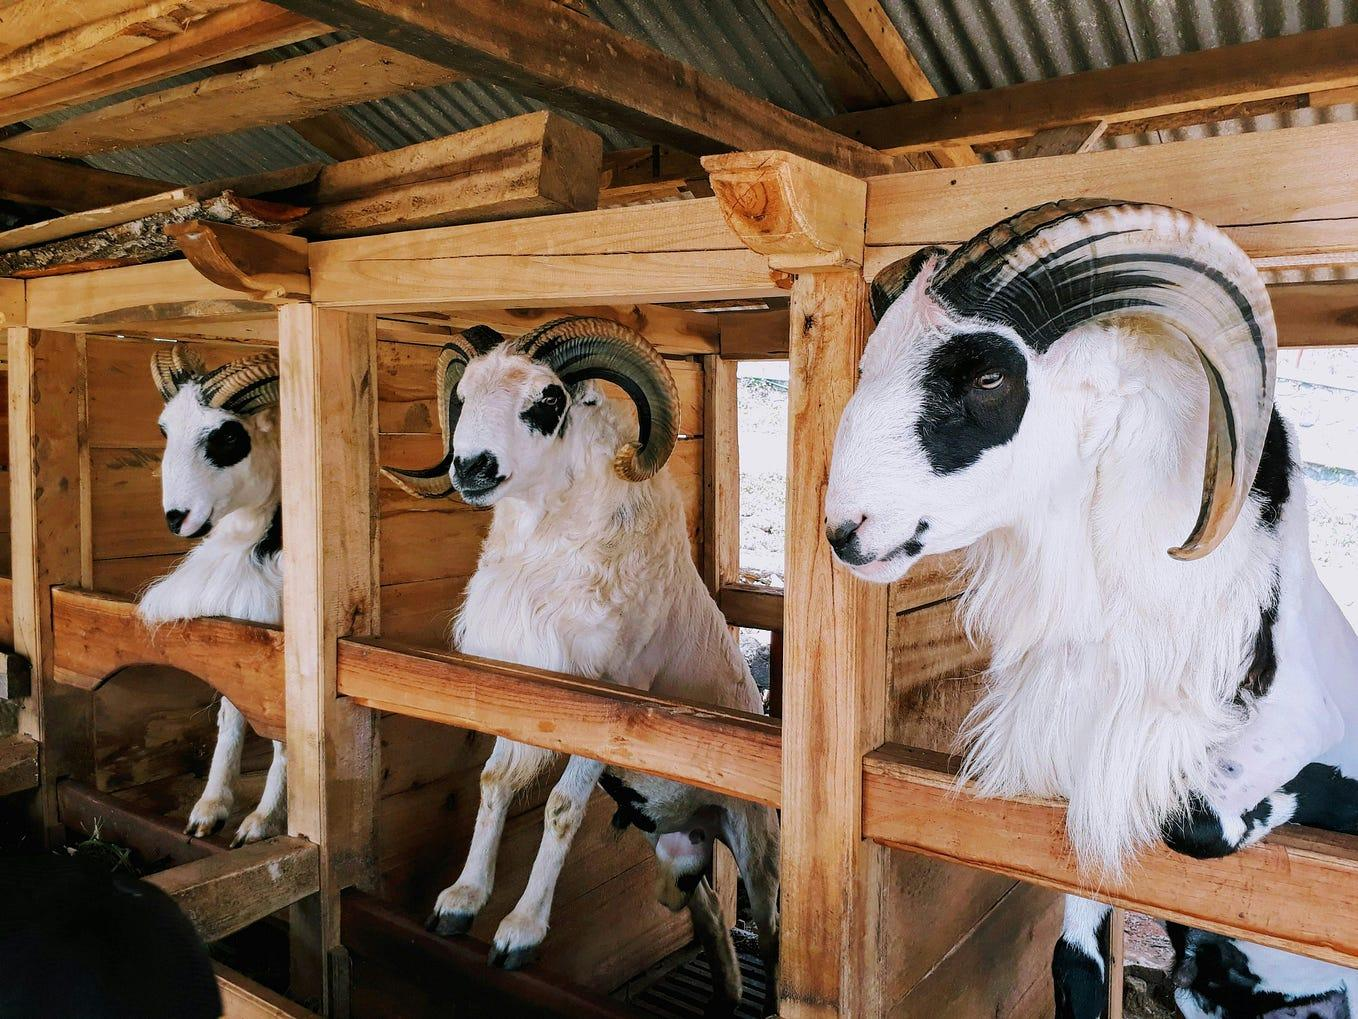Sheep: (806, 177, 1290, 690), (367, 288, 690, 606), (98, 308, 303, 557)
